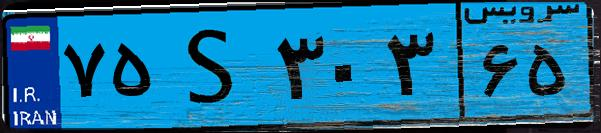0: (330, 28, 385, 110)
3: (270, 28, 330, 110), (385, 28, 445, 110)
5: (525, 38, 570, 115), (110, 28, 158, 98)
6: (475, 38, 525, 113)
7: (57, 26, 110, 100)
S: (158, 12, 270, 120)
